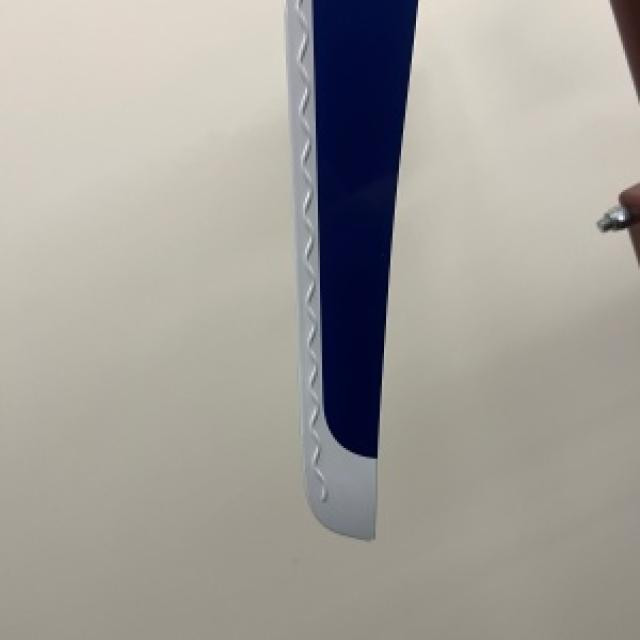healthy: (286, 0, 414, 535)
